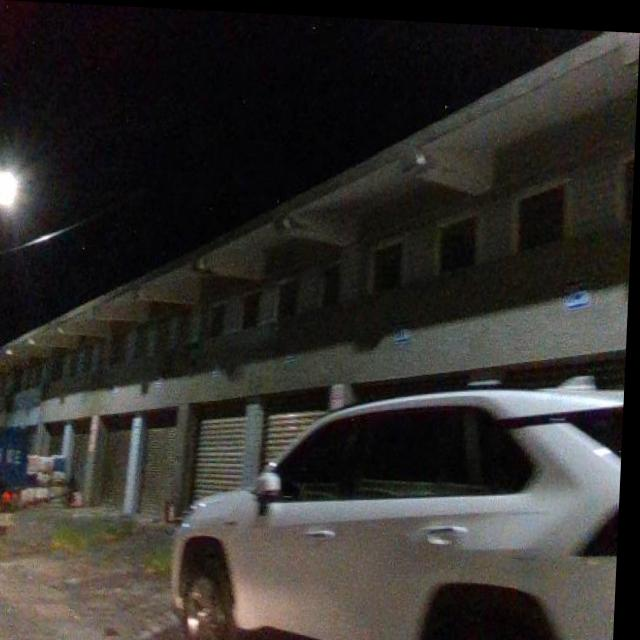pollute: (19, 446, 93, 516)
